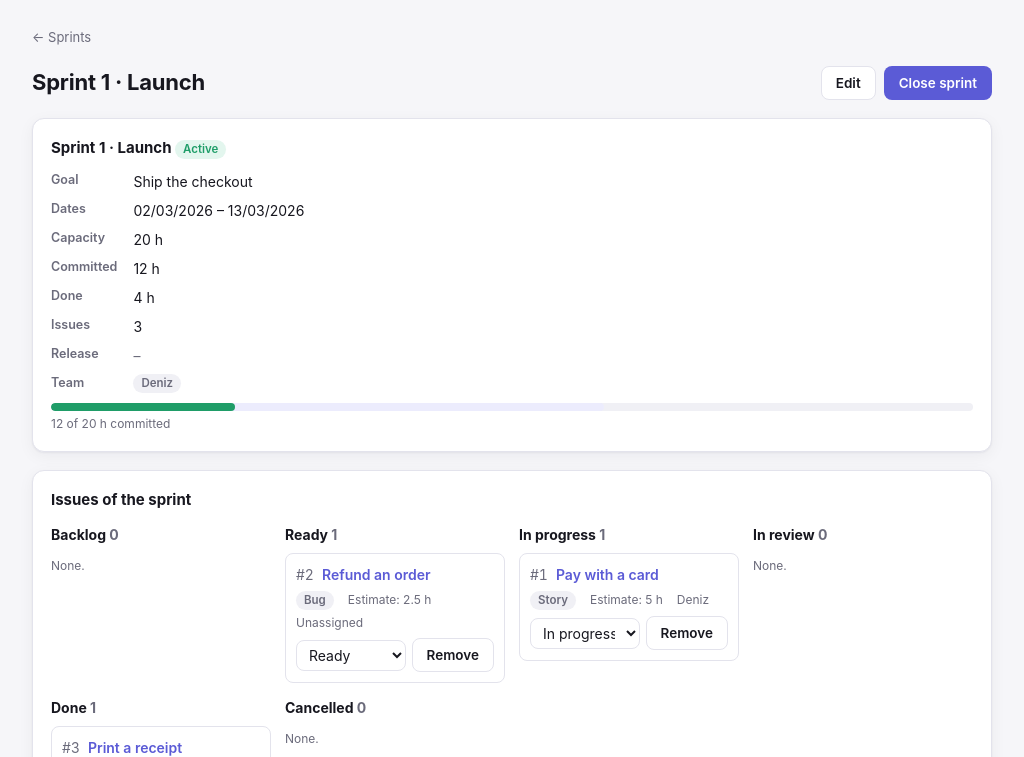
Test: the sprint page: closing › asks for the sprints of the application for an application's sprint
Click the button "Close sprint": (938, 82) [884,66,992,100]
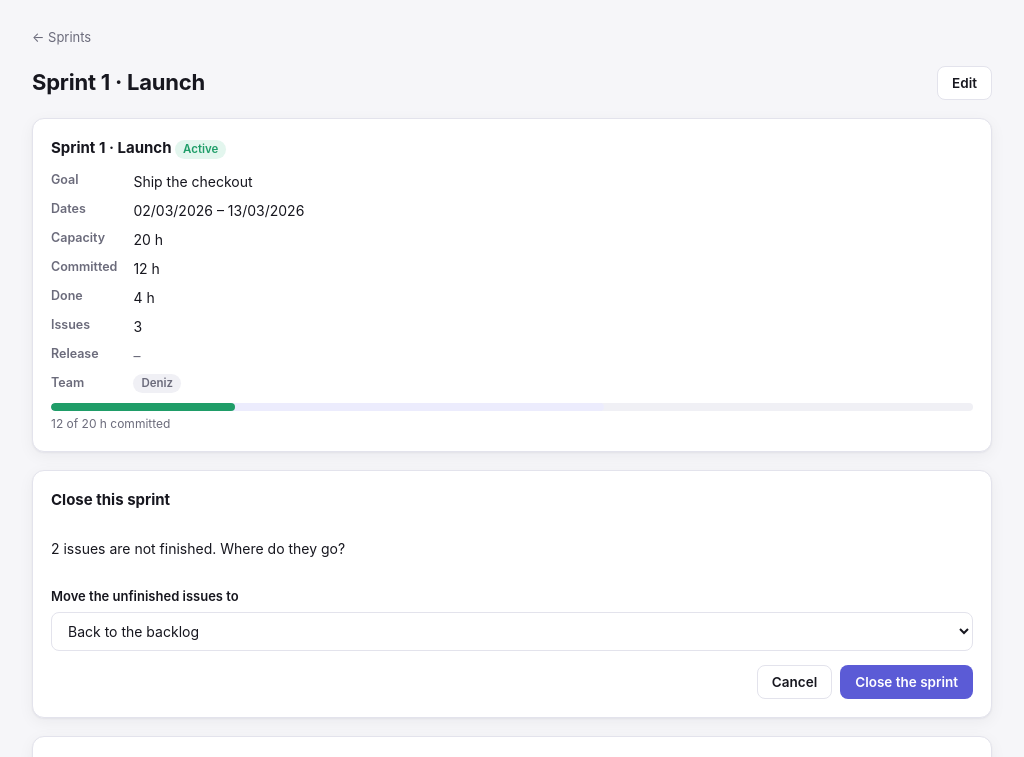
Now the dropdown labelled "Move the unfinished issues to" is shown, box [51,612,973,651]
